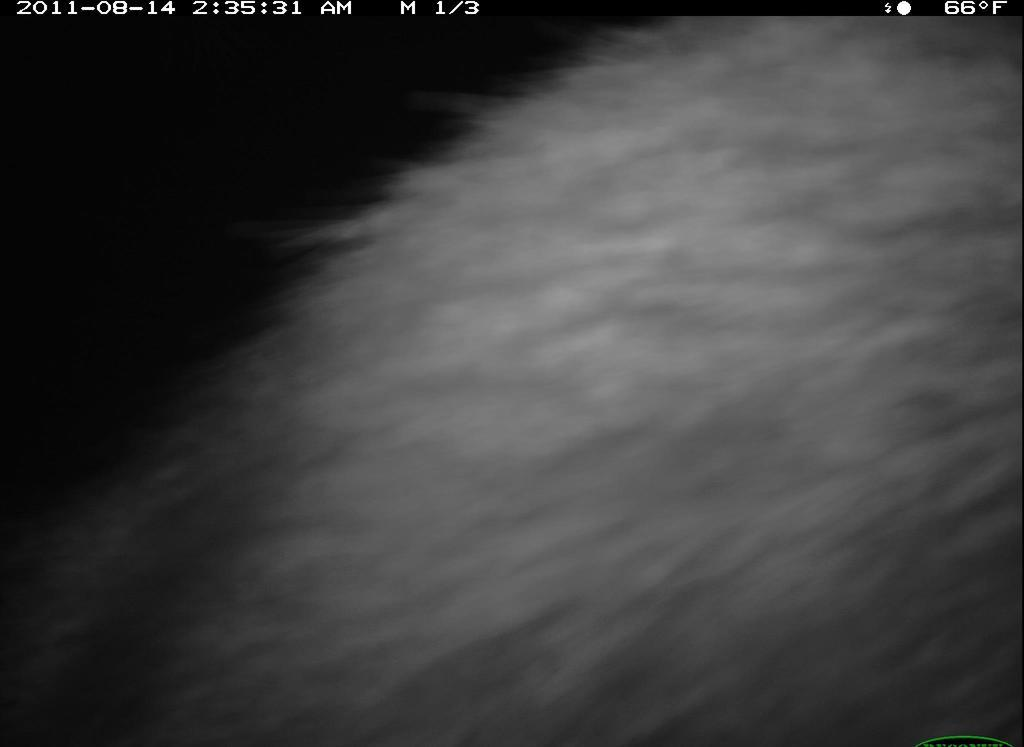raccoon: (2, 13, 1023, 747)
